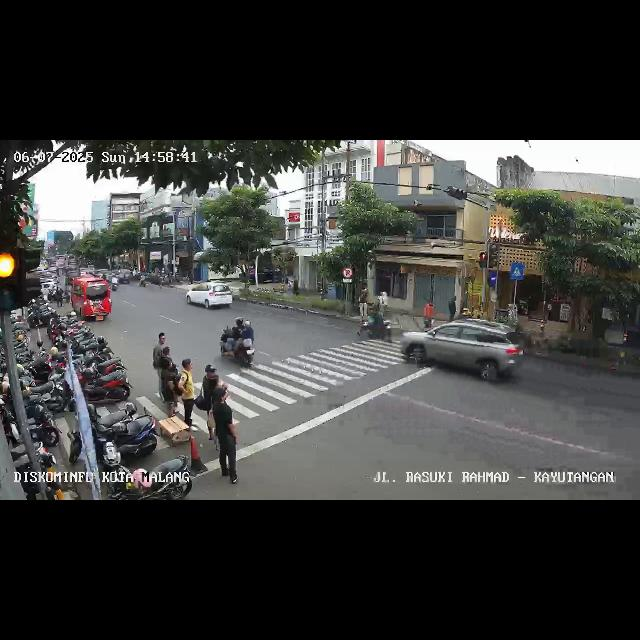car: (406, 318, 522, 384), (70, 276, 112, 322), (186, 282, 234, 312)
motorcycle: (218, 317, 256, 368), (357, 309, 391, 339)
person: (212, 390, 240, 482), (178, 358, 198, 432), (207, 374, 225, 454), (158, 357, 178, 418), (202, 362, 216, 442), (154, 331, 166, 403), (160, 345, 172, 411), (421, 299, 435, 331), (358, 286, 368, 324)
